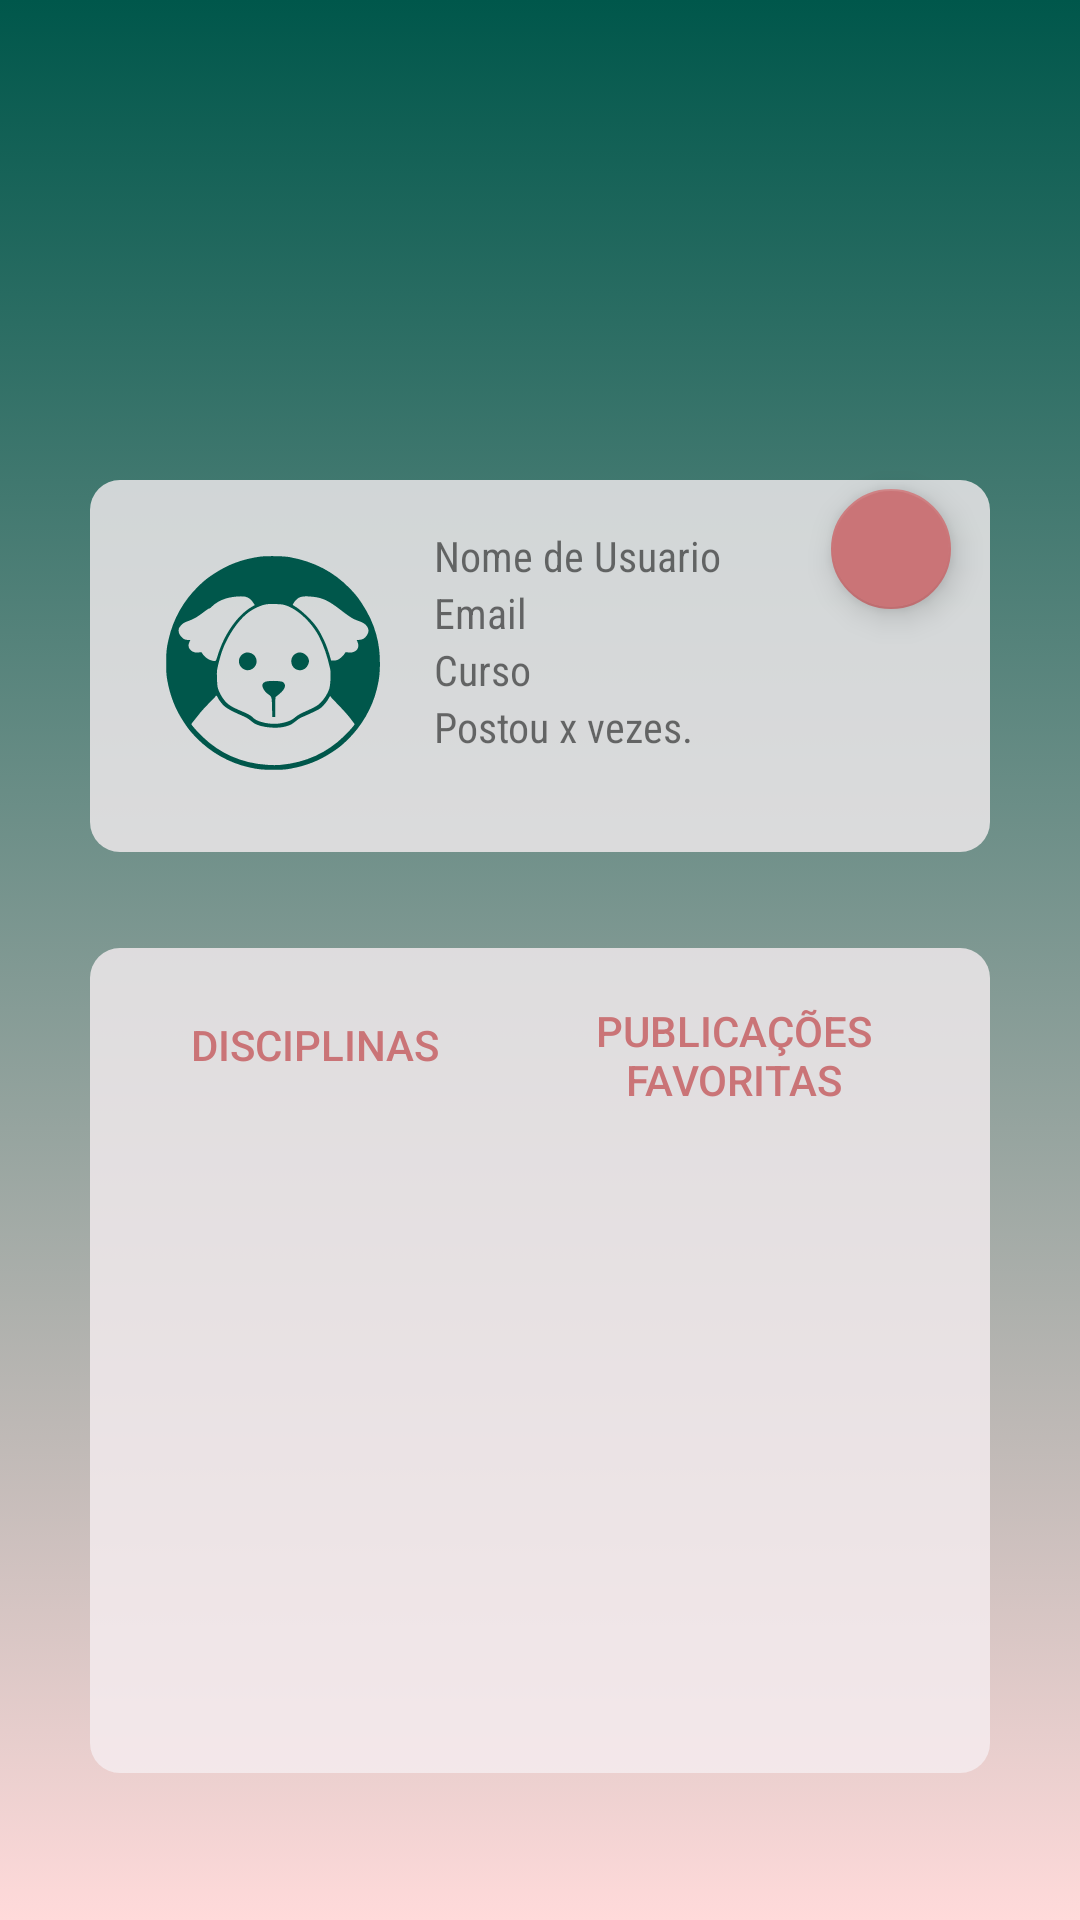

Point at icon controls on the screen. Image size 1080px×1920px, points as (x=x, y=y).
dog perfil: (x=273, y=663)
